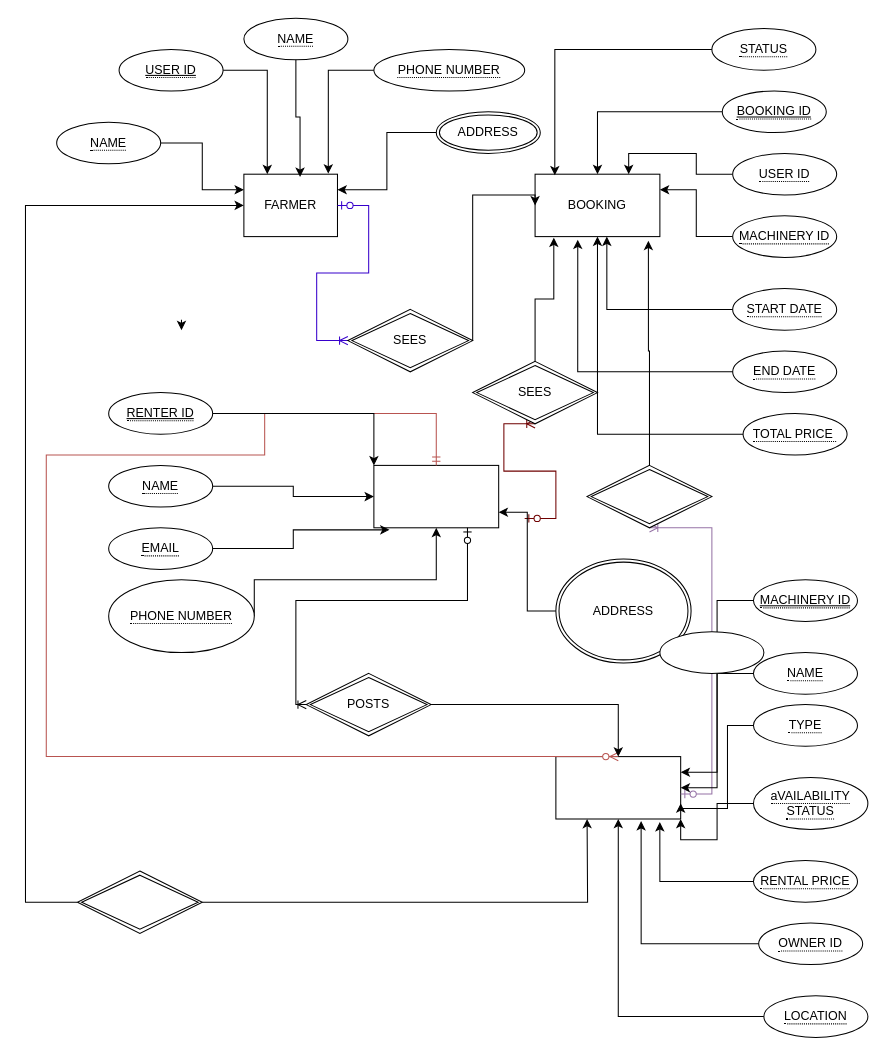
Image size: 886x1056. Some labels were removed from this diagram. Here are the shapes that lost their labels. From the top down, the centre of each, then its label:
pixel 436 496: RENTER
pixel 649 496: IS BOOKED
pixel 711 652: Attribute
pixel 618 787: MACHINERY
pixel 139 901: RENTS
